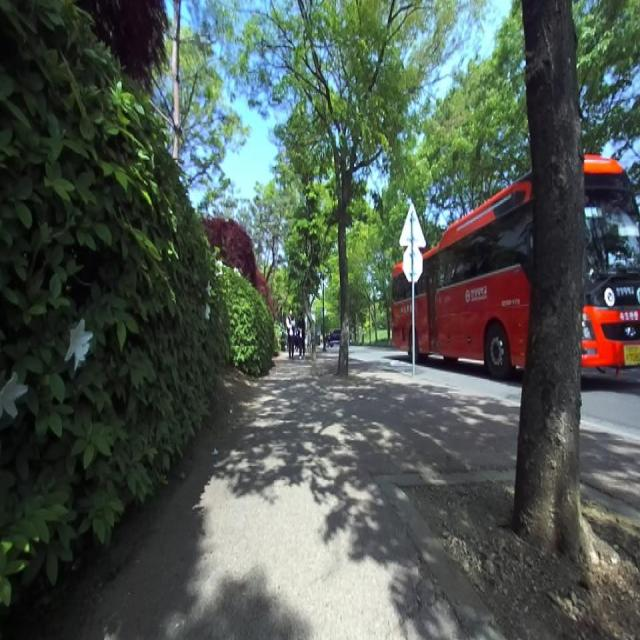sidewalk: (35, 353, 520, 639), (582, 427, 640, 511)
